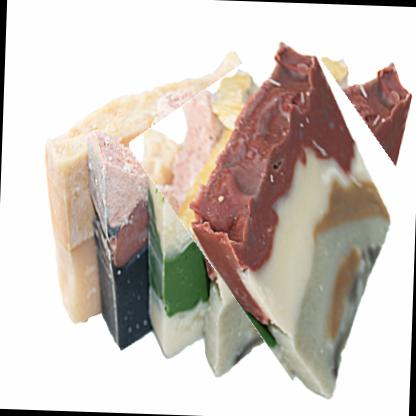soap: (157, 36, 415, 403)
